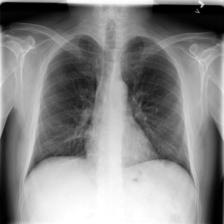normal: (20, 31, 200, 190)
